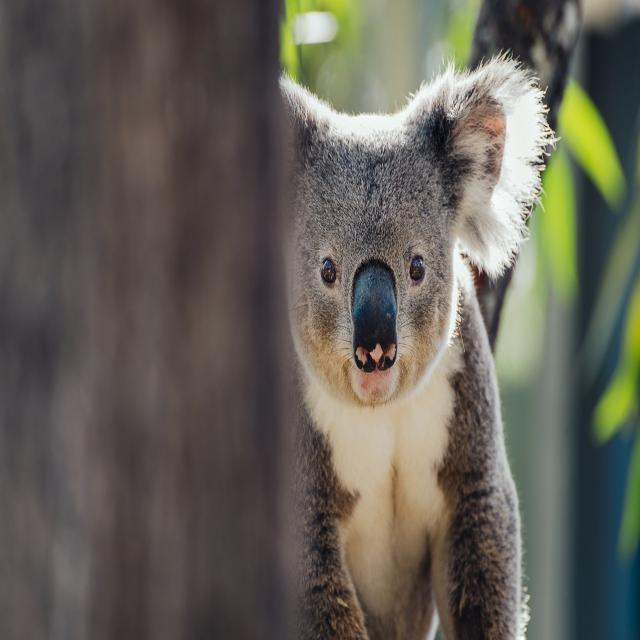Koala: (280, 51, 550, 640)
